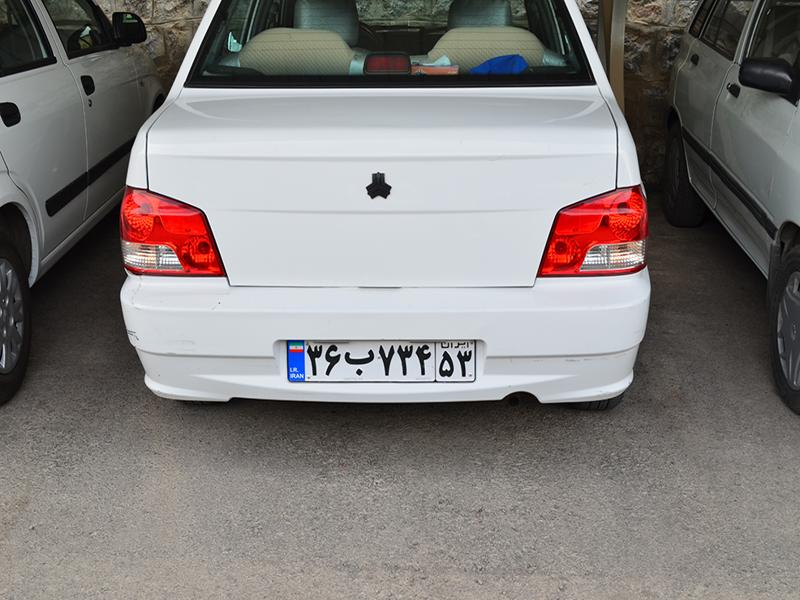Plate: (281, 326, 487, 397)
